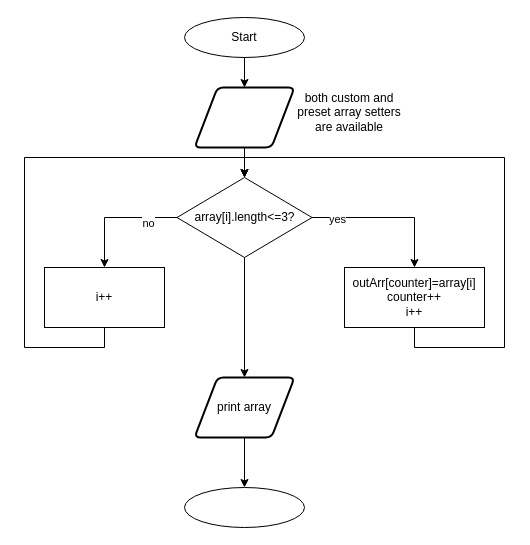
Some shapes in this 530 by 545 pixel diagram are drawn without their labels. Each missing label, with the centre of its shape:
"E nd" goes at point (244, 507).
"input array" goes at point (244, 117).
